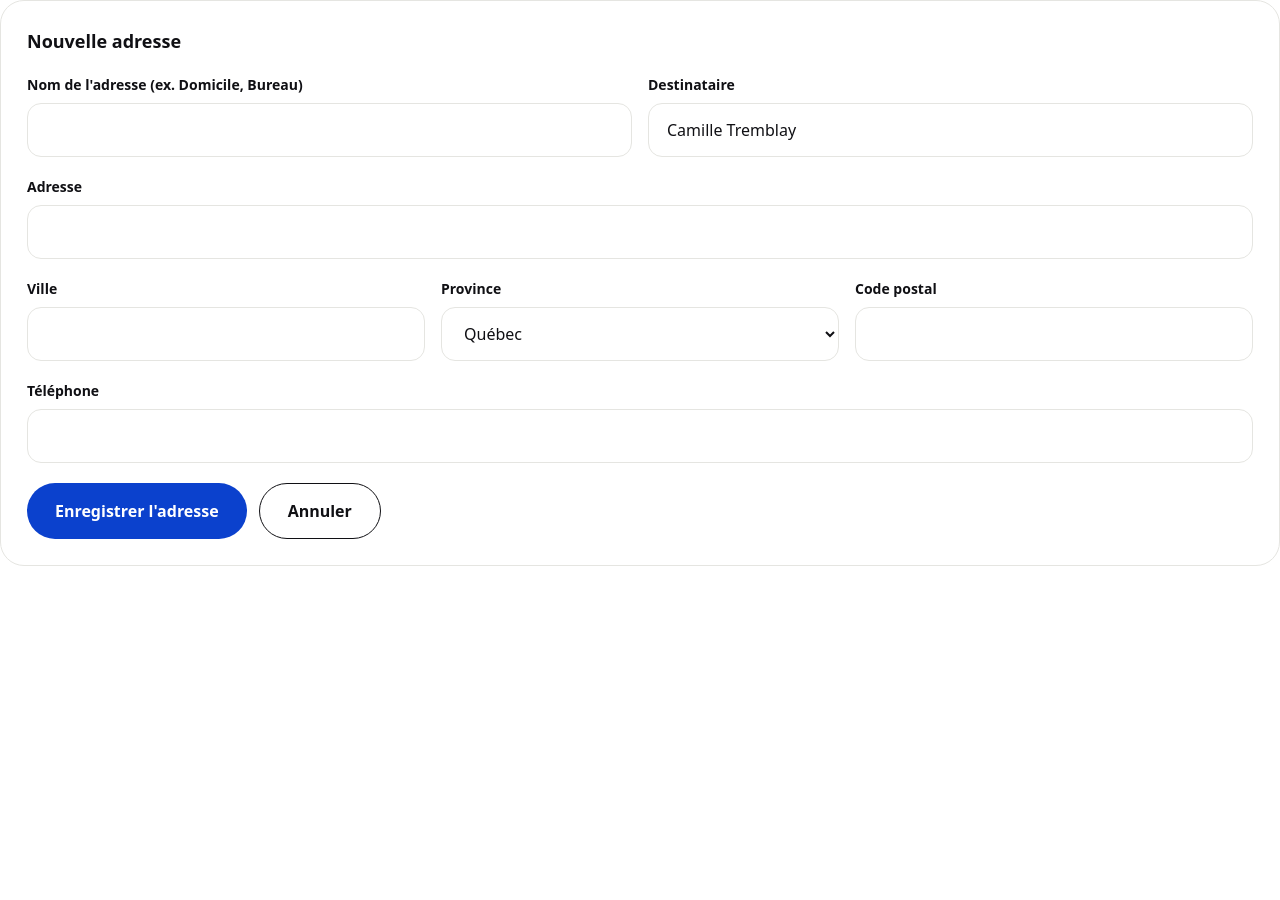
it: FormulaireAdresse › signale les champs fautifs sans enregistrer
The width and height of the screenshot is (1280, 900).
Click the button "Enregistrer l'adresse". click: click(137, 511)
box: [27, 483, 247, 539]
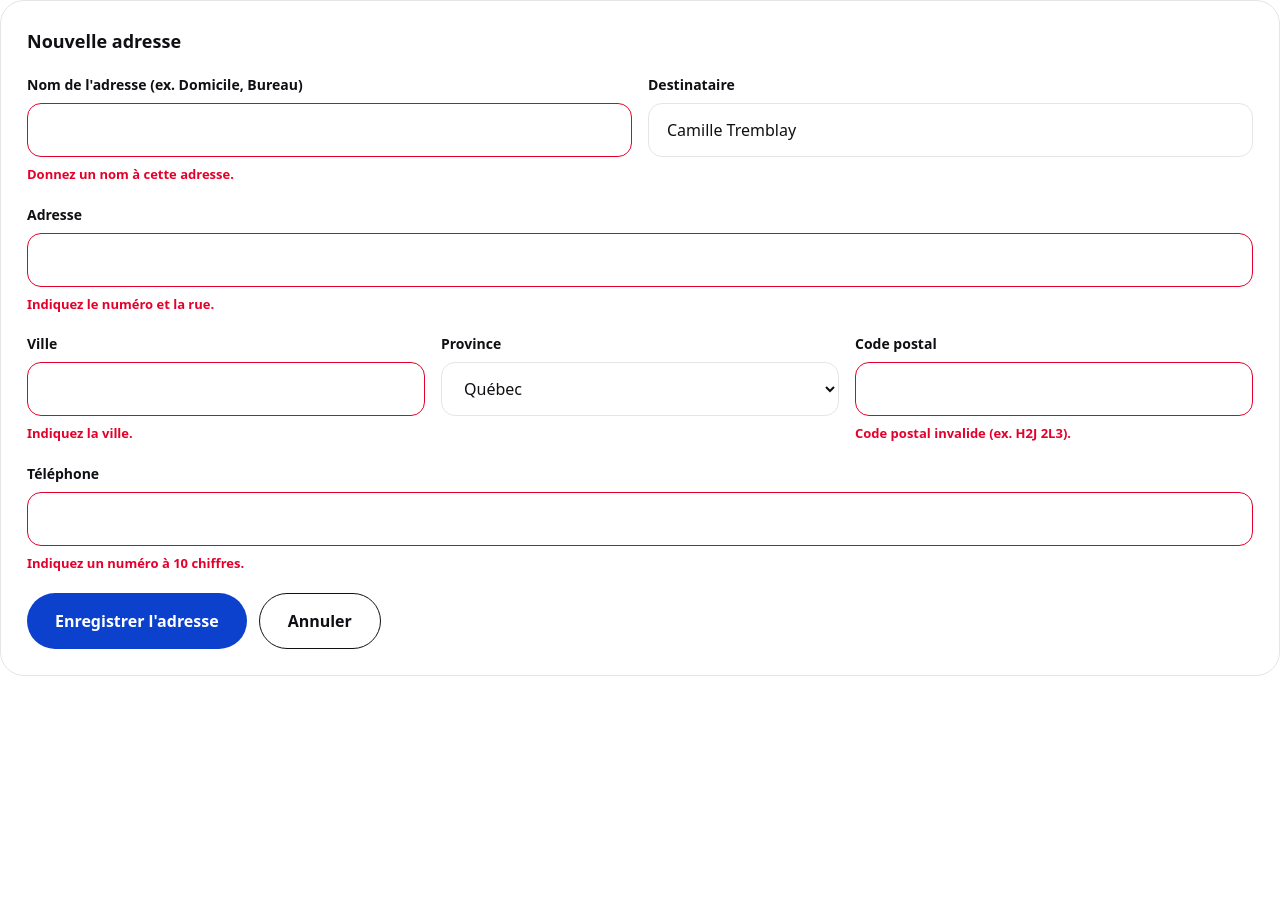
Result: the text "Indiquez la ville." is shown at [27, 424, 133, 442]
Result: the text "Code postal invalide (ex. H2J 2L3)." is shown at [855, 424, 1071, 442]
